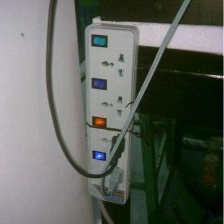three_eye_plug: (79, 18, 141, 208)
